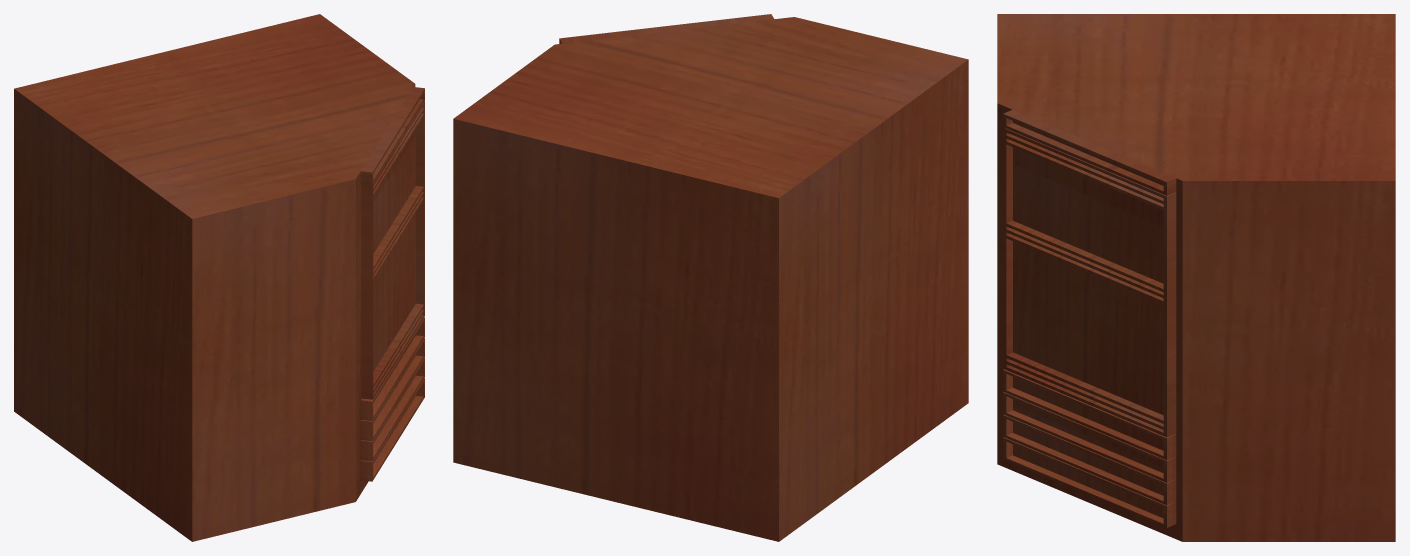
Rendered from sh-lp-mobileangolo-ciliegio.glb.
3 views of the same model, side by side, from view 1: azimuth 30°, elevation 25°; view 2: azimuth 150°, elevation 25°; view 3: azimuth 270°, elevation 25° (orthographic). The views are drawn at different scales.
Visible parts, largest first — view 1: Line28_1; view 2: Line28_1; view 3: Line28_1.
Part boxes in pixels (x1,y1,x2,y2): Line28_1: [14, 14, 424, 541]; Line28_1: [453, 14, 968, 541]; Line28_1: [997, 14, 1395, 541].
Size of the model in its own units: 1 by 1 by 1.
Materials: 1 (1 with a texture image).
